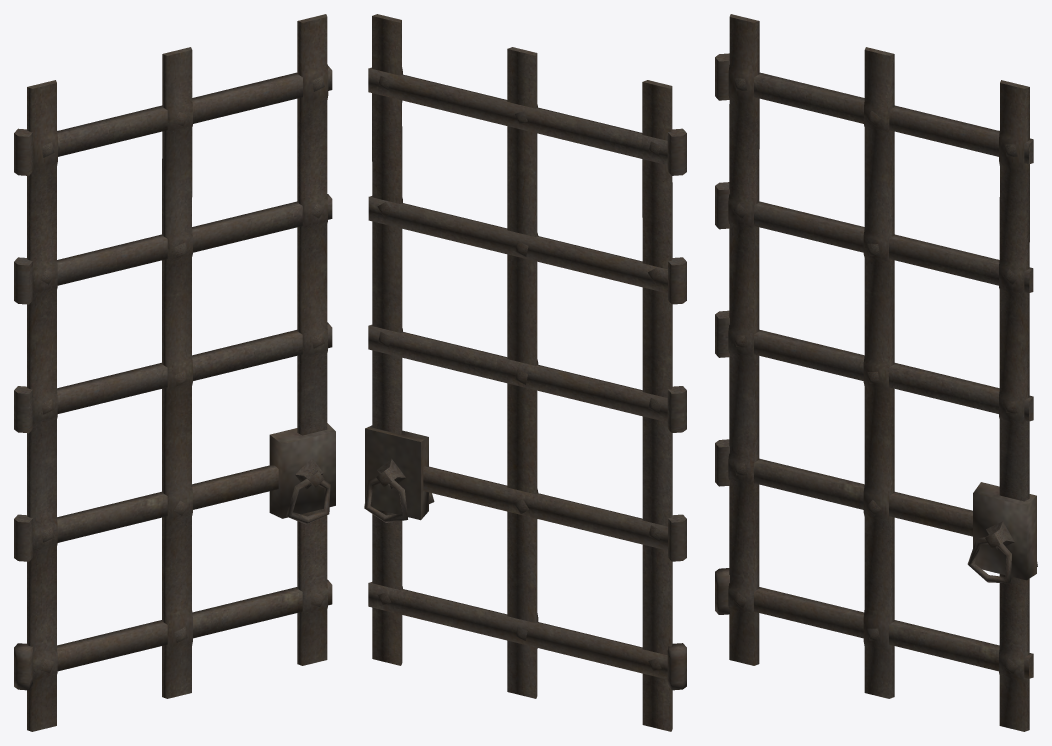
File: gate_iron_L.fbx
The picture shows the model from 3 angles, left to right: view 1: azimuth 30°, elevation 25°; view 2: azimuth 150°, elevation 25°; view 3: azimuth 330°, elevation 25°; orthographic projection.
Visible parts, largest first — view 1: gate_iron_L; view 2: gate_iron_L; view 3: gate_iron_L.
Part boxes in pixels (x1=…): gate_iron_L: x1=14, y1=14, x2=335, y2=731; gate_iron_L: x1=364, y1=14, x2=686, y2=731; gate_iron_L: x1=715, y1=14, x2=1037, y2=731.
Bounding box in the file's own units: 51.21 × 100 × 8.67.
